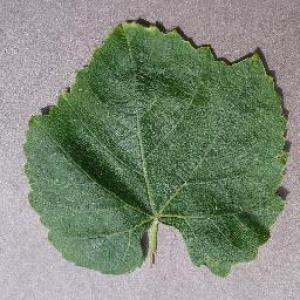Folha: (21, 16, 291, 278)
